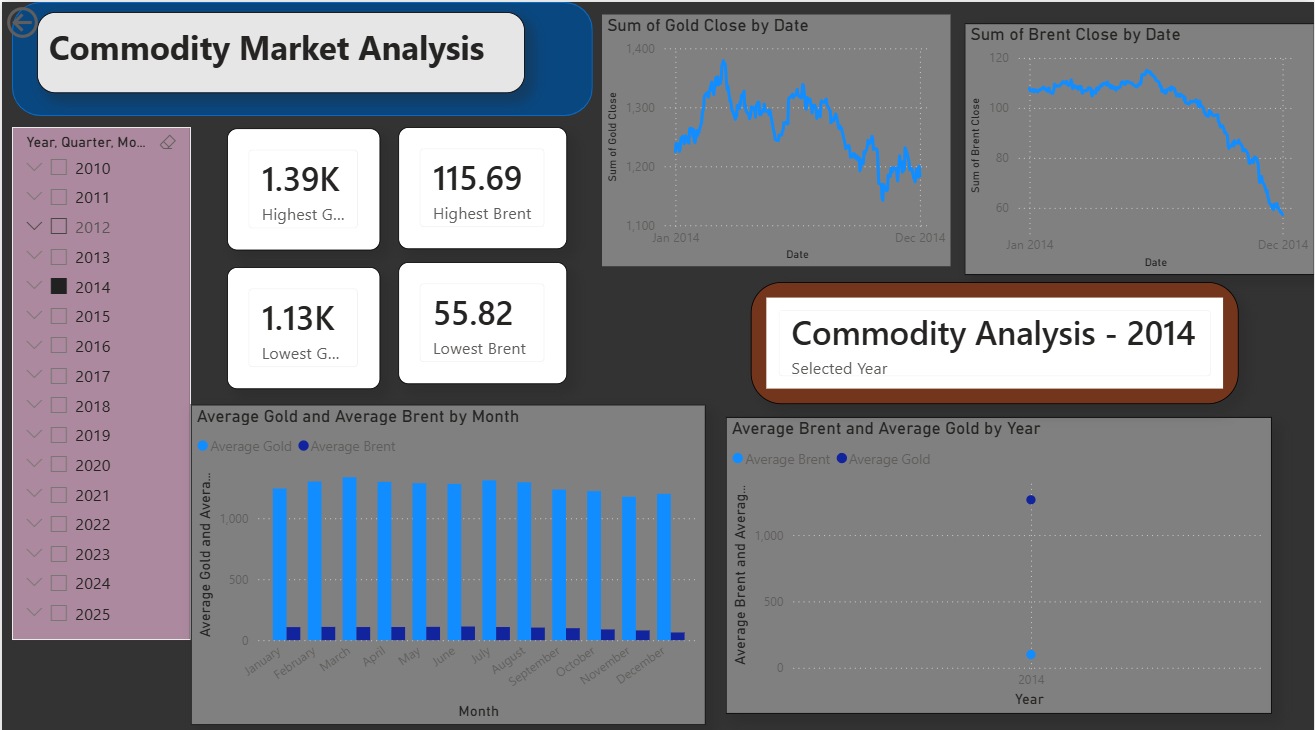

The dashboard page shown, as its layout file describes it:
{"tool":"powerbi","page":{"name":"Commodity Market Analysis","canvas":[1280,720],"ordinal":2},"visuals":[{"type":"shape","box":[9.6,0,566.7,111.1],"z":0},{"type":"textbox","box":[34.3,9.6,476.2,79.6],"z":1000},{"type":"slicer","fields":{"Values":["Date Table.Year","Date Table.Quarter","Date Table.Month"]},"box":[9.6,122.1,174.3,500.9],"z":2000},{"type":"cardVisual","fields":{"Data":["Measures Table.Highest Gold"]},"box":[219.6,123.5,149.6,119.4],"z":3000},{"type":"cardVisual","fields":{"Data":["Measures Table.Lowest Gold"]},"box":[219.6,258,149.6,119.4],"z":4000},{"type":"cardVisual","fields":{"Data":["Measures Table.Highest Brent"]},"box":[387,122.1,164.7,119.4],"z":5000},{"type":"cardVisual","fields":{"Data":["Measures Table.Lowest Brent"]},"box":[387,253.9,164.7,119.4],"z":6000},{"type":"lineChart","fields":{"Category":["Date Table.Date"],"Y":["Sum(daily_market_data.Gold Close)"]},"box":[585.9,12.3,340.3,245.6],"z":7000},{"type":"lineChart","fields":{"Category":["Date Table.Date"],"Y":["Sum(daily_market_data.Brent Close)"]},"box":[938.6,20.6,341.7,245.6],"z":8000},{"type":"clusteredColumnChart","fields":{"Category":["Date Table.Month"],"Y":["Measures Table.Average Gold","Measures Table.Average Brent"]},"box":[183.9,392.5,502.2,312.9],"z":9000},{"type":"lineChart","fields":{"Category":["Date Table.Year"],"Y":["Measures Table.Average Brent","Measures Table.Average Gold"]},"box":[706.7,404.8,532.4,289.5],"z":10000},{"type":"cardVisual","fields":{"Data":["Measures Table.Selected Year"]},"box":[730,273.1,476.2,119.4],"z":11000},{"type":"actionButton","box":[0,0,100,40],"z":12000}]}

Visuals, with their boxes in screenshot pixels (x1, y1, x2, y2), scaled from the page's 1280x720 canvas onto the 1315x730 screenshot:
shape: BBox(10, 0, 592, 113)
textbox: BBox(35, 10, 524, 90)
slicer - Date Table.Year x Date Table.Quarter: BBox(10, 124, 189, 632)
cardVisual - Measures Table.Highest Gold: BBox(226, 125, 379, 246)
cardVisual - Measures Table.Lowest Gold: BBox(226, 262, 379, 383)
cardVisual - Measures Table.Highest Brent: BBox(398, 124, 567, 245)
cardVisual - Measures Table.Lowest Brent: BBox(398, 257, 567, 378)
lineChart - Date Table.Date x Sum(daily_market_data.Gold Close): BBox(602, 12, 952, 261)
lineChart - Date Table.Date x Sum(daily_market_data.Brent Close): BBox(964, 21, 1314, 270)
clusteredColumnChart - Date Table.Month x Measures Table.Average Gold: BBox(189, 398, 705, 715)
lineChart - Date Table.Year x Measures Table.Average Brent: BBox(726, 410, 1273, 704)
cardVisual - Measures Table.Selected Year: BBox(750, 277, 1239, 398)
actionButton: BBox(0, 0, 103, 41)
